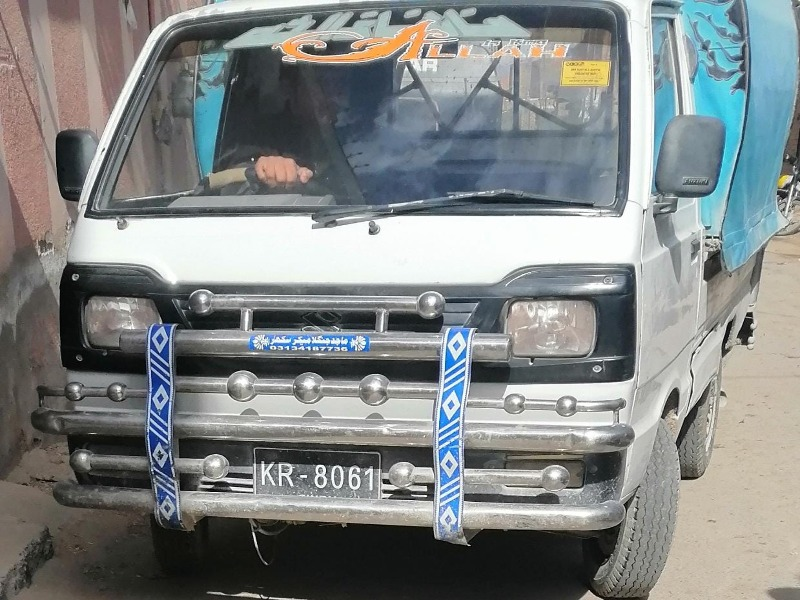License Plate: (248, 441, 383, 504)
